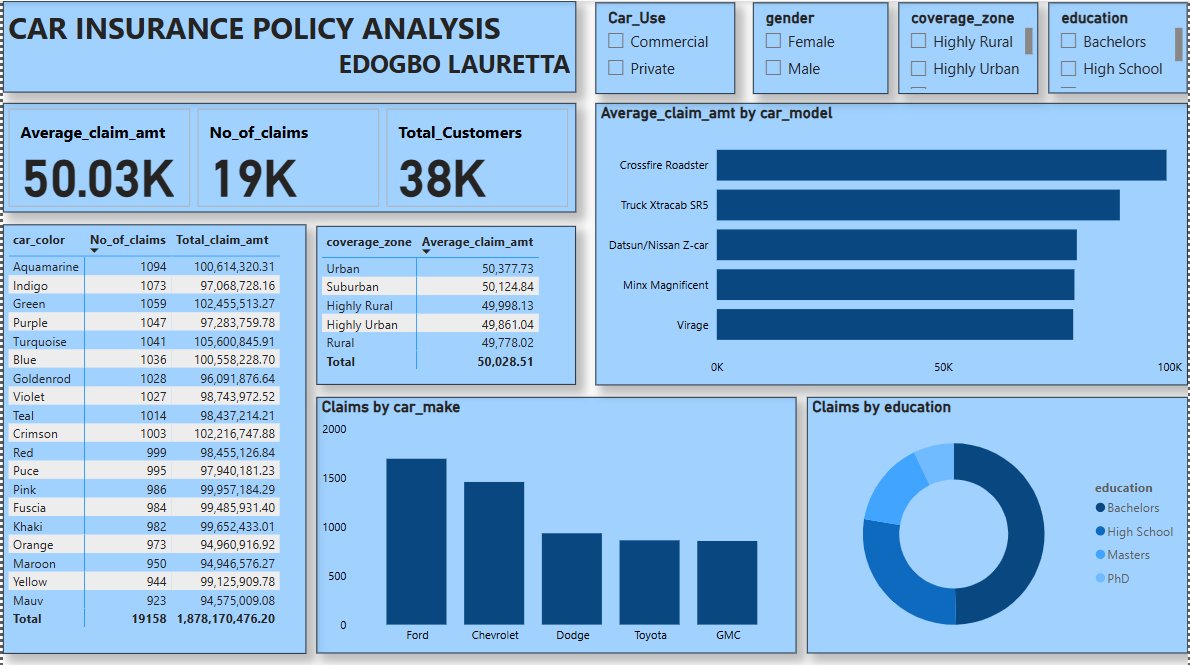

What the dashboard file says about the page in this screenshot:
{"tool":"powerbi","page":{"name":"Page 1","canvas":[1280,720],"ordinal":0},"visuals":[{"type":"cardVisual","fields":{"Data":["Measures (2).Average_claim_amt","Measures (2).No_of_claims","Measures (2).Total_Customers"]},"box":[0,110.1,618.5,118.2],"z":3},{"type":"textbox","box":[0,0,618.5,98.8],"z":4},{"type":"columnChart","title":"Claims by car_make","fields":{"Category":["Insurance Policies.car_make"],"Y":["Measures (2).No_of_claims"]},"box":[338.4,427.5,518.2,276.9],"z":5},{"type":"clusteredBarChart","fields":{"Category":["Insurance Policies.car_model"],"Y":["Measures (2).Average_claim_amt"]},"box":[639.6,110.1,639.6,304.4],"z":6},{"type":"donutChart","title":"Claims by education","fields":{"Y":["Measures (2).No_of_claims"],"Category":["Insurance Policies.education"]},"box":[867.9,427.5,411.3,276.9],"z":7},{"type":"pivotTable","fields":{"Rows":["Insurance Policies.car_color"],"Values":["Measures (2).No_of_claims","Measures (2).Total_claim_amt"]},"box":[0,241.3,327.1,463.1],"z":8},{"type":"pivotTable","fields":{"Rows":["Insurance Policies.coverage_zone"],"Values":["Measures (2).Average_claim_amt"]},"box":[338.4,242.9,280.1,171.6],"z":9},{"type":"slicer","fields":{"Values":["Insurance Policies.car_use"]},"box":[639.6,1.6,150.6,98.8],"z":10},{"type":"slicer","fields":{"Values":["Insurance Policies.gender"]},"box":[809.6,1.6,145.7,98.8],"z":11},{"type":"slicer","fields":{"Values":["Insurance Policies.coverage_zone"]},"box":[966.7,1.6,150.6,98.8],"z":12},{"type":"slicer","fields":{"Values":["Insurance Policies.education"]},"box":[1128.6,1.6,150,98],"z":13}]}

Visuals, with their boxes in screenshot pixels (x1, y1, x2, y2), scaled from the page's 1280x720 canvas onto the 1190x665 screenshot:
cardVisual - Measures (2).Average_claim_amt x Measures (2).No_of_claims: (0, 102, 575, 211)
textbox: (0, 0, 575, 91)
"Claims by car_make" columnChart: (315, 395, 796, 651)
clusteredBarChart - Insurance Policies.car_model x Measures (2).Average_claim_amt: (595, 102, 1189, 383)
"Claims by education" donutChart: (807, 395, 1189, 651)
pivotTable - Insurance Policies.car_color x Measures (2).No_of_claims: (0, 223, 304, 651)
pivotTable - Insurance Policies.coverage_zone x Measures (2).Average_claim_amt: (315, 224, 575, 383)
slicer - Insurance Policies.car_use: (595, 1, 735, 93)
slicer - Insurance Policies.gender: (753, 1, 888, 93)
slicer - Insurance Policies.coverage_zone: (899, 1, 1039, 93)
slicer - Insurance Policies.education: (1049, 1, 1189, 92)
